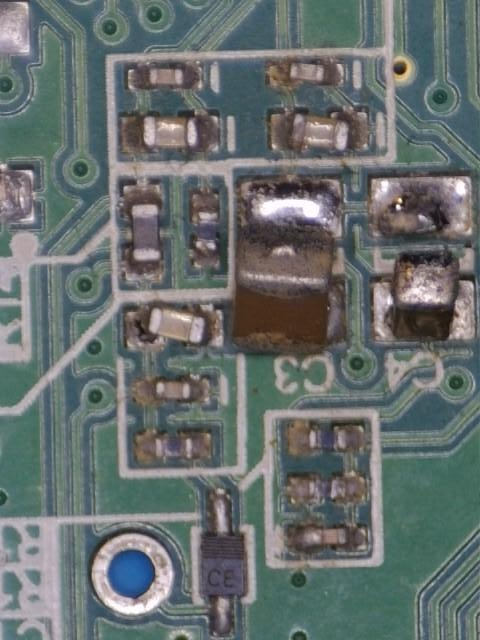pcb_defect: (231, 175, 350, 357), (368, 174, 477, 344), (122, 304, 225, 351)
